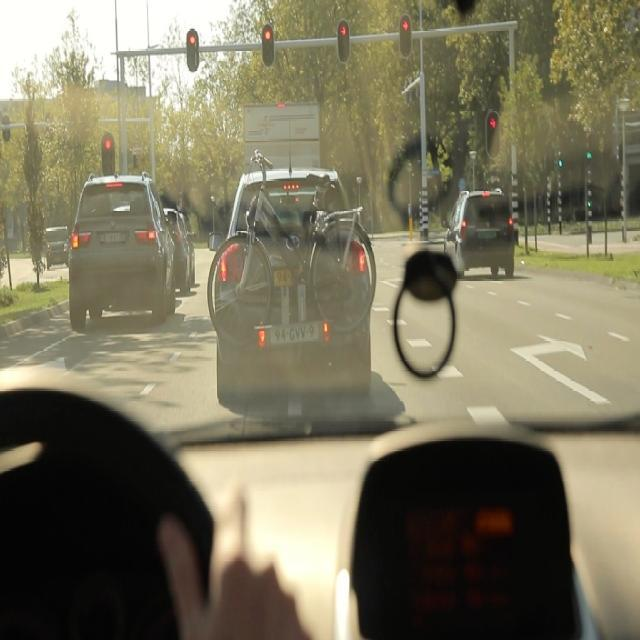traffic light: (102, 134, 113, 174), (339, 23, 349, 59), (401, 16, 410, 53), (264, 27, 273, 61), (189, 32, 197, 67)
